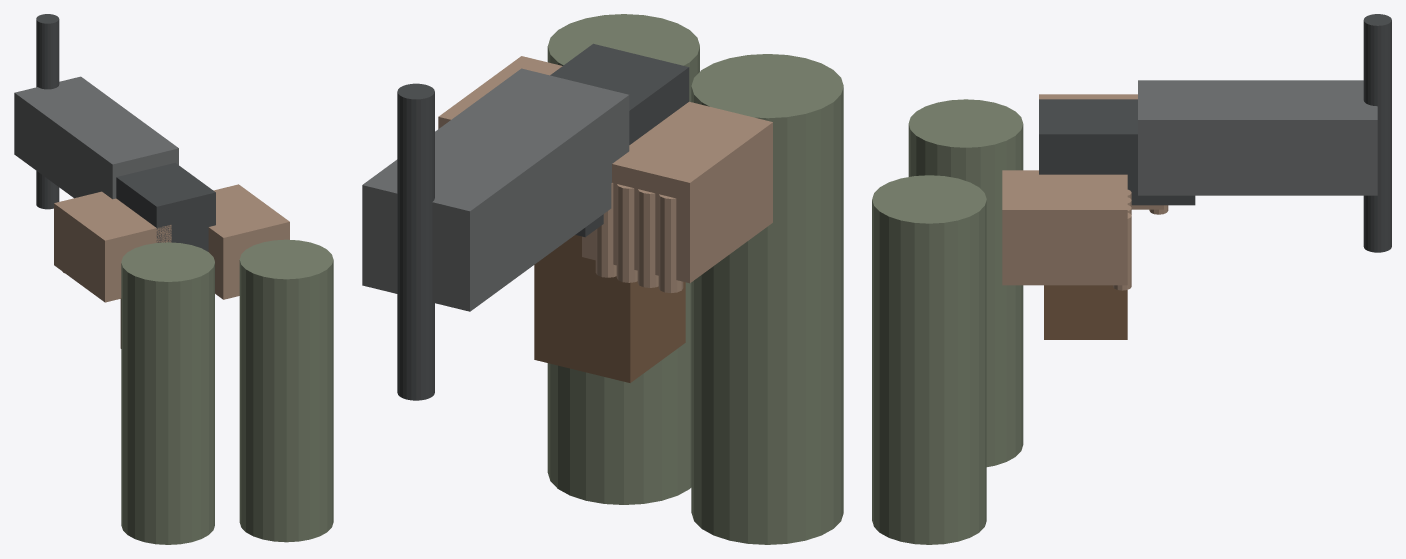
Rendered from fp_service_pistol.glb.
3 renders of one model, left to right at view 1: azimuth 30°, elevation 25°; view 2: azimuth 150°, elevation 25°; view 3: azimuth 270°, elevation 25°, orthographic. The views are drawn at different scales.
Parts seen in each view (by area): view 1: Sleeve0, Sleeve1, Slide, Hand1, Frame, Hand0, Barrel; view 2: Sleeve1, Slide, Sleeve0, Hand1, Grip, Barrel, Frame, Finger1_0, Finger1_2, Finger1_1, Hand0, Finger1_3; view 3: Sleeve0, Slide, Sleeve1, Hand0, Frame, Barrel, Grip, Hand1.
Part boxes in pixels (left/top/right/bottom): Sleeve0: left=239, top=239, right=333, bottom=542; Sleeve1: left=121, top=242, right=214, bottom=544; Slide: left=14, top=76, right=178, bottom=199; Hand1: left=54, top=191, right=171, bottom=302; Frame: left=116, top=162, right=215, bottom=251; Hand0: left=208, top=184, right=289, bottom=299; Barrel: left=36, top=14, right=59, bottom=209; Sleeve1: left=691, top=54, right=843, bottom=544; Slide: left=362, top=68, right=629, bottom=311; Sleeve0: left=547, top=14, right=699, bottom=504; Hand1: left=582, top=101, right=772, bottom=283; Grip: left=534, top=235, right=685, bottom=382; Barrel: left=397, top=83, right=434, bottom=400; Frame: left=550, top=43, right=689, bottom=237; Finger1_0: left=658, top=194, right=683, bottom=292; Finger1_2: left=616, top=184, right=637, bottom=282; Finger1_1: left=637, top=189, right=658, bottom=287; Hand0: left=438, top=56, right=562, bottom=128; Finger1_3: left=595, top=183, right=616, bottom=277; Sleeve0: left=872, top=175, right=986, bottom=544; Slide: left=1138, top=80, right=1377, bottom=195; Sleeve1: left=908, top=99, right=1023, bottom=466; Hand0: left=1002, top=170, right=1127, bottom=285; Frame: left=1039, top=99, right=1195, bottom=205; Barrel: left=1363, top=14, right=1391, bottom=252; Grip: left=1044, top=285, right=1127, bottom=339; Hand1: left=1039, top=94, right=1163, bottom=209.
Bounding box in the file's own units: 0.5 × 0.99 × 0.997.
